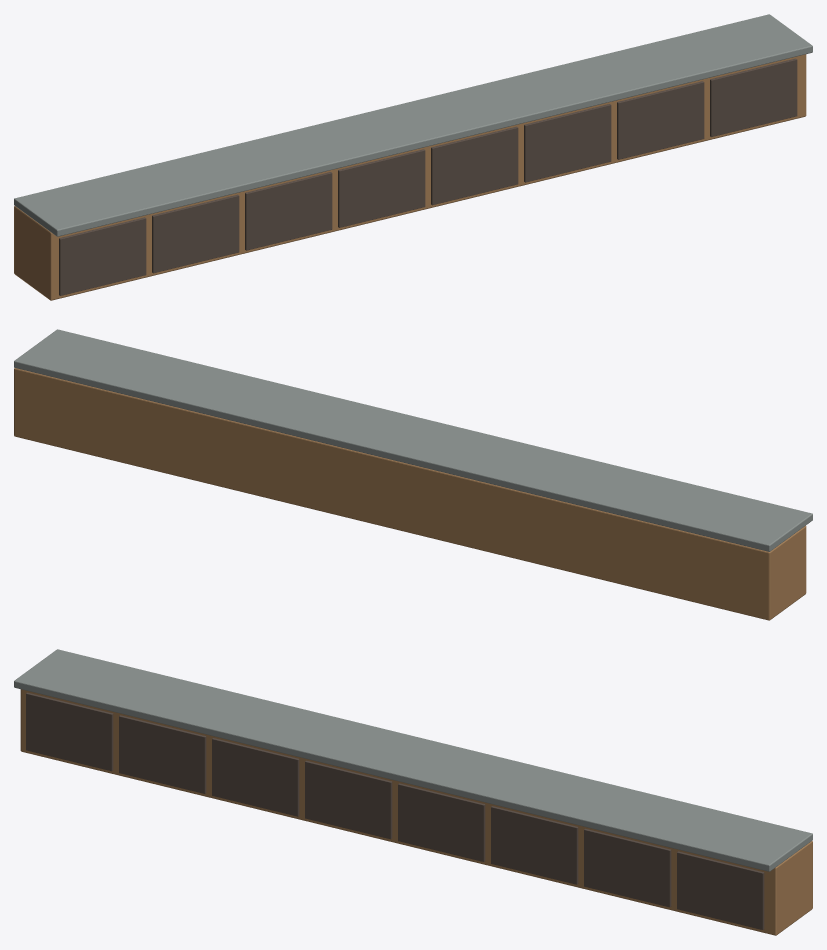
The model's file is best.glb.
3 renders of one model, top to bottom at view 1: azimuth 30°, elevation 25°; view 2: azimuth 150°, elevation 25°; view 3: azimuth 330°, elevation 25°, orthographic.
Parts seen in each view (by area): view 1: starbucksBackbar_1, starbucksBackbar_0, starbucksBackbar_2, starbucksBackbar_5, starbucksBackbar_4, starbucksBackbar_7, starbucksBackbar_8, starbucksBackbar_6, starbucksBackbar_9, starbucksBackbar_3; view 2: starbucksBackbar_0, starbucksBackbar_1; view 3: starbucksBackbar_1, starbucksBackbar_0, starbucksBackbar_3, starbucksBackbar_4, starbucksBackbar_7, starbucksBackbar_2, starbucksBackbar_6, starbucksBackbar_9, starbucksBackbar_8, starbucksBackbar_5.
Boxes of the visible parts, box(x1,y1,x2,y2) form: starbucksBackbar_1: box(14, 14, 812, 236); starbucksBackbar_0: box(14, 54, 806, 300); starbucksBackbar_2: box(59, 217, 146, 295); starbucksBackbar_5: box(338, 149, 425, 227); starbucksBackbar_4: box(245, 172, 332, 250); starbucksBackbar_7: box(524, 104, 611, 182); starbucksBackbar_8: box(617, 81, 704, 159); starbucksBackbar_6: box(431, 126, 518, 205); starbucksBackbar_9: box(710, 58, 797, 136); starbucksBackbar_3: box(152, 194, 239, 273); starbucksBackbar_0: box(14, 368, 806, 620); starbucksBackbar_1: box(14, 329, 812, 551); starbucksBackbar_1: box(14, 649, 812, 871); starbucksBackbar_0: box(20, 689, 812, 935); starbucksBackbar_3: box(119, 715, 206, 793); starbucksBackbar_4: box(212, 738, 299, 816); starbucksBackbar_7: box(491, 806, 578, 884); starbucksBackbar_2: box(26, 692, 113, 771); starbucksBackbar_6: box(398, 783, 485, 861); starbucksBackbar_9: box(677, 851, 764, 929); starbucksBackbar_8: box(584, 828, 671, 907); starbucksBackbar_5: box(305, 760, 392, 839).
Bounding box in the file's own units: 10 × 0.96 × 1.
